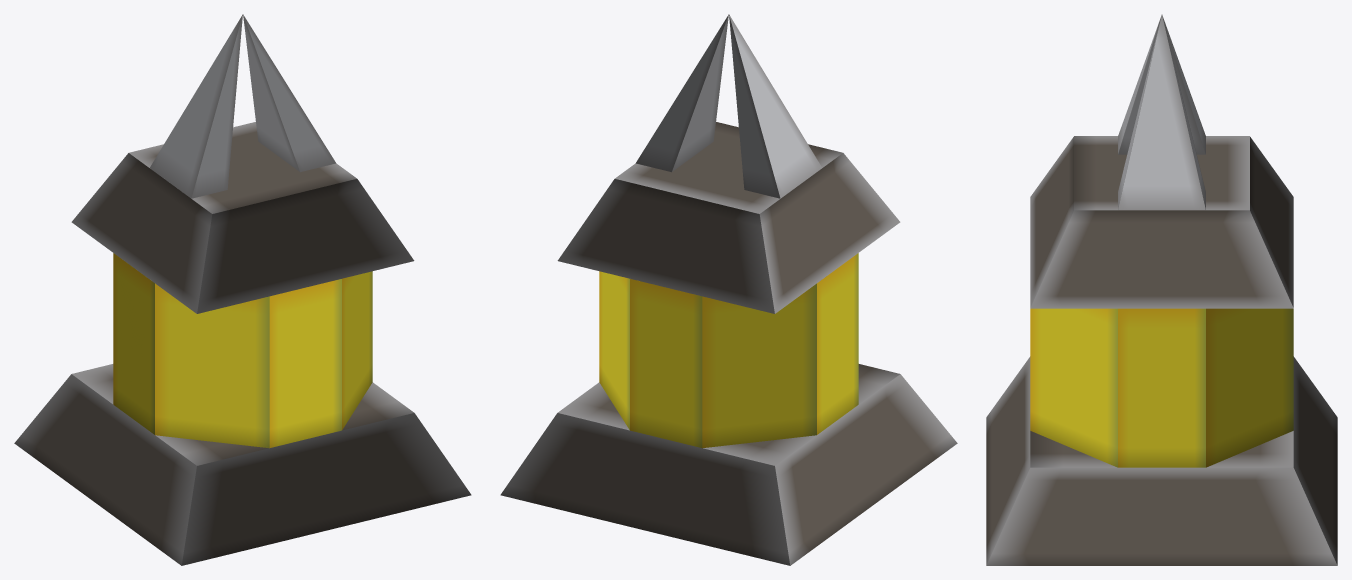
File: lanterne.obj
3 renders of one model, left to right at view 1: azimuth 30°, elevation 25°; view 2: azimuth 150°, elevation 25°; view 3: azimuth 270°, elevation 25°, orthographic. The views are drawn at different scales.
Visible parts, largest first — view 1: lanterne; view 2: lanterne; view 3: lanterne.
Part boxes in pixels (left/top/right/bottom): lanterne: left=14, top=14, right=471, bottom=565; lanterne: left=500, top=14, right=957, bottom=565; lanterne: left=986, top=14, right=1337, bottom=565.
Size of the model in its own units: 2 by 3 by 2.
1 material, 1 textured.
